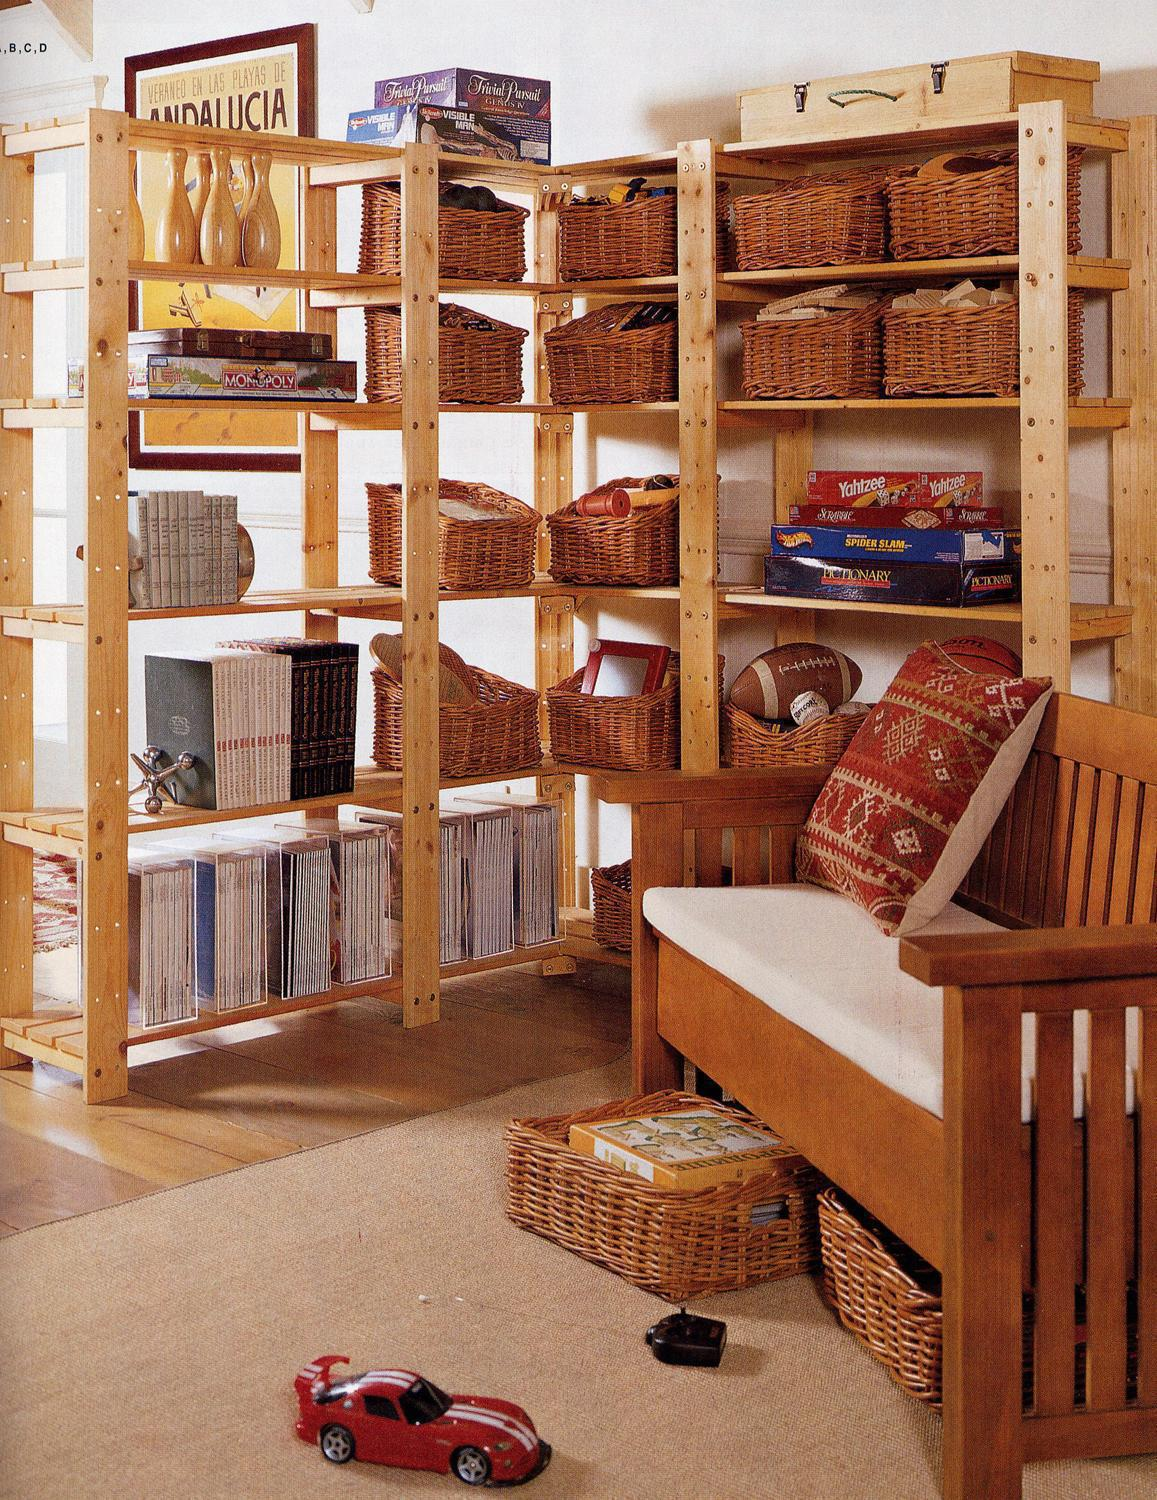Otro Obstaculo: (521, 1058, 803, 1312), (263, 1303, 557, 1491)
